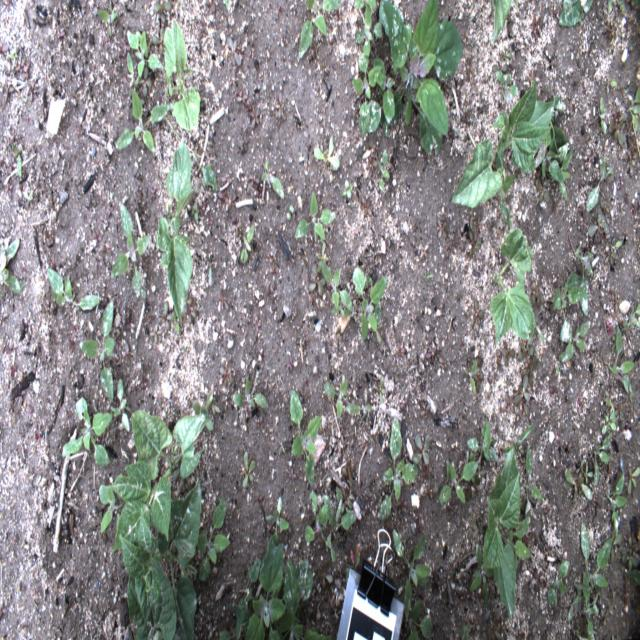crop: (100, 404, 208, 635), (449, 82, 565, 204), (469, 440, 536, 618), (156, 138, 197, 330), (489, 227, 537, 344), (162, 17, 202, 141), (492, 1, 514, 52)
weed: (352, 3, 467, 149), (567, 511, 620, 639), (220, 540, 285, 632), (57, 384, 121, 469), (78, 278, 118, 402), (550, 217, 598, 320), (110, 84, 172, 162), (107, 200, 152, 303), (275, 554, 329, 638), (379, 419, 421, 519), (302, 496, 363, 564), (192, 485, 232, 584), (391, 531, 433, 622), (290, 386, 322, 484), (564, 431, 610, 498), (592, 88, 638, 149), (48, 268, 110, 313), (355, 262, 386, 351), (292, 188, 336, 249), (298, 1, 340, 64), (124, 28, 166, 82), (228, 365, 274, 412), (606, 326, 636, 398), (318, 259, 355, 317), (559, 309, 595, 368), (544, 554, 574, 622), (438, 455, 480, 501), (550, 124, 578, 191), (584, 149, 615, 208), (321, 375, 362, 419), (0, 235, 25, 305), (464, 419, 498, 466), (493, 44, 520, 102), (407, 593, 438, 637), (260, 151, 288, 199), (558, 0, 604, 28), (234, 212, 256, 266), (411, 428, 435, 476), (94, 6, 124, 43), (266, 490, 291, 532), (5, 151, 38, 181), (599, 404, 623, 445), (615, 461, 637, 497), (240, 448, 254, 492)
